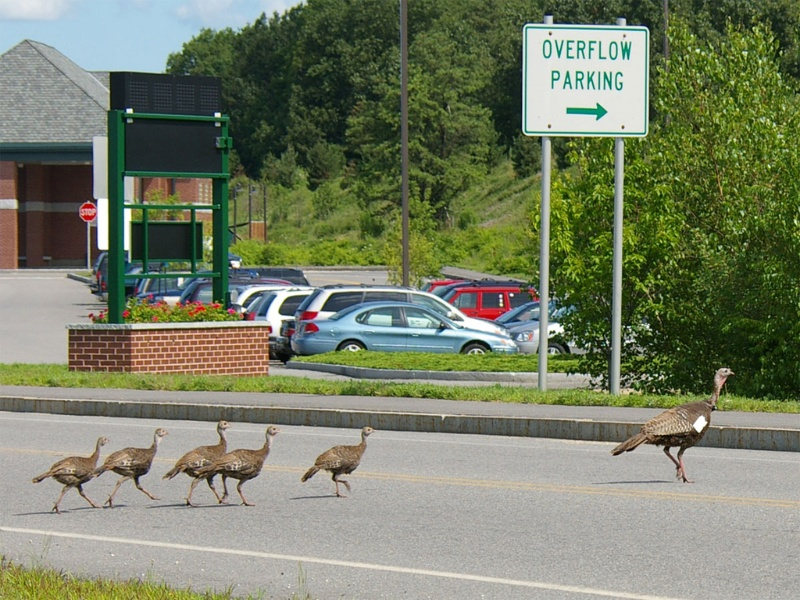parking: (524, 22, 647, 139)
stop: (72, 200, 105, 234)
